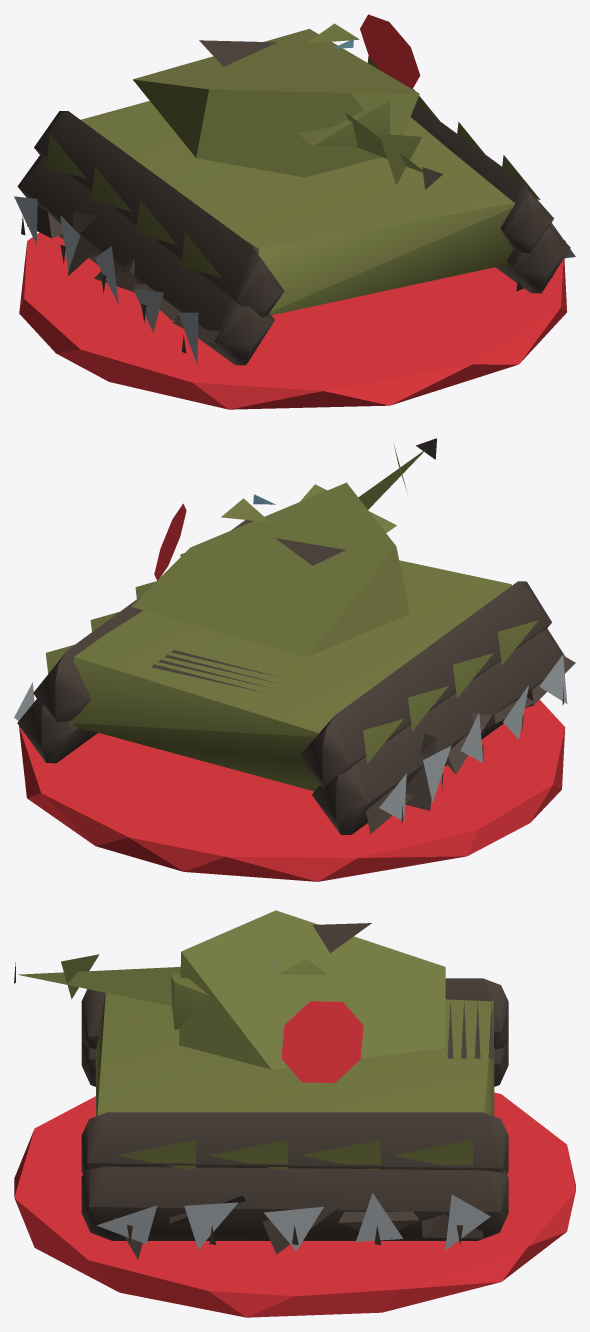
The model's file is japan_tank_lod1.glb.
3 views of the same model, one above another, from view 1: azimuth 30°, elevation 25°; view 2: azimuth 150°, elevation 25°; view 3: azimuth 270°, elevation 25° (orthographic). The views are drawn at different scales.
Parts seen in each view (by area): view 1: body_hull, base_pedestal; view 2: body_hull, base_pedestal; view 3: body_hull, base_pedestal.
Part boxes in pixels (<box>): body_hull: <box>14,14,575,365</box>; base_pedestal: <box>19,232,567,409</box>; body_hull: <box>14,438,575,834</box>; base_pedestal: <box>19,699,565,881</box>; body_hull: <box>14,910,508,1259</box>; base_pedestal: <box>14,1092,575,1317</box>.
Size of the model in its own units: 0.7791 by 0.3944 by 0.7775.
